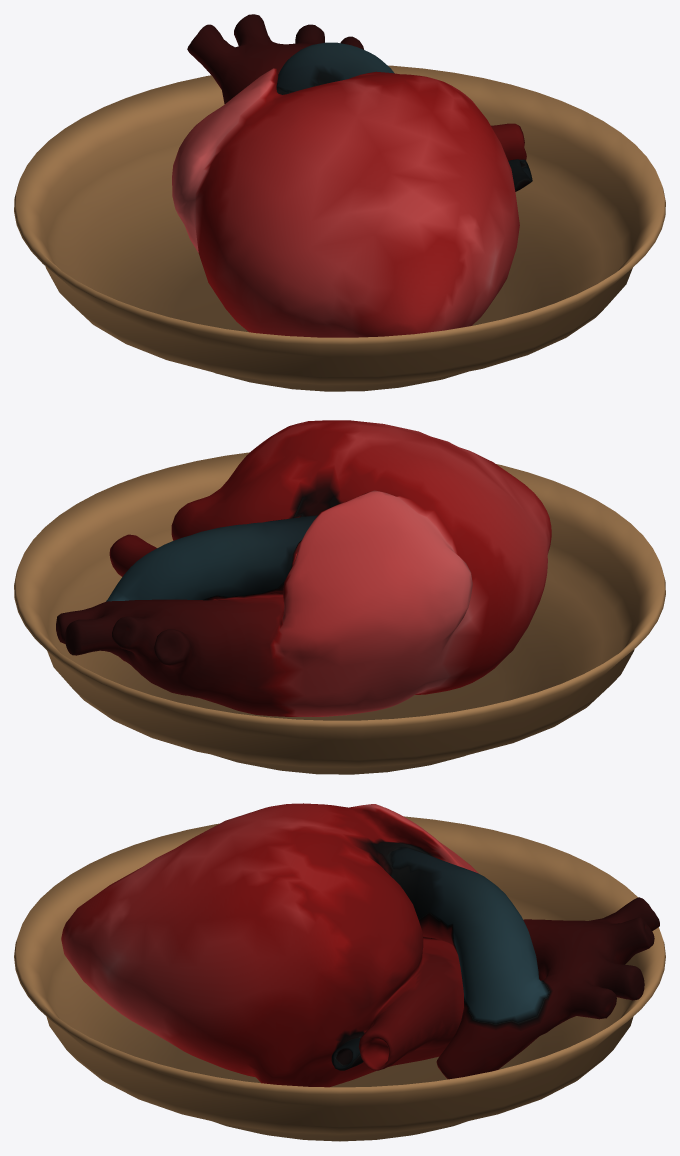
The model's file is heart.gltf.
3 views of the same model, one above another, from view 1: azimuth 30°, elevation 25°; view 2: azimuth 150°, elevation 25°; view 3: azimuth 270°, elevation 25° (orthographic).
Visible parts, largest first — view 1: heart, plate; view 2: heart, plate; view 3: heart, plate.
Part boxes in pixels (<box>): heart: <box>172,14,532,337</box>; plate: <box>14,65,665,391</box>; heart: <box>56,420,551,716</box>; plate: <box>14,452,665,774</box>; heart: <box>61,803,659,1087</box>; plate: <box>14,816,665,1141</box>.
Size of what is drawn, in the model's own units: 0.542 by 0.2249 by 0.542.
1 material, 1 textured.
